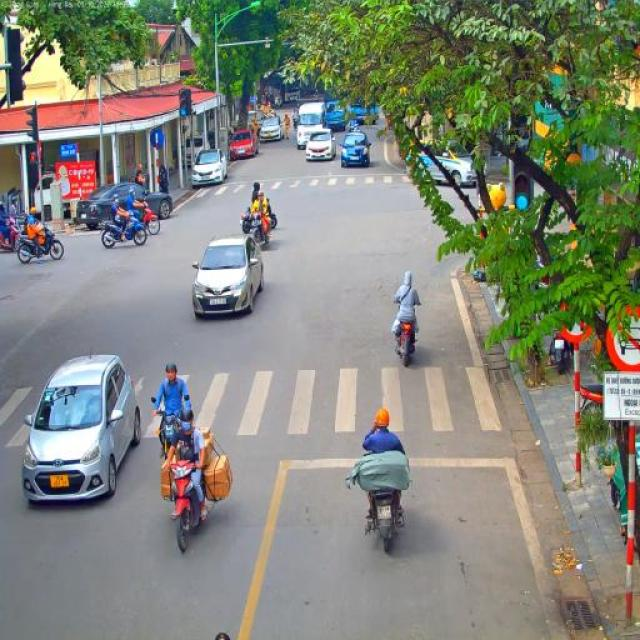bus: (533, 64, 616, 214)
car: (20, 352, 142, 506), (192, 234, 266, 320), (76, 182, 173, 229), (414, 140, 480, 190), (192, 148, 228, 186), (339, 131, 372, 168), (305, 128, 336, 162), (228, 130, 258, 161), (324, 100, 347, 132), (258, 116, 284, 144), (248, 110, 263, 130)
motorcycle: (169, 456, 205, 553), (150, 396, 195, 463), (364, 487, 406, 554), (100, 210, 148, 249), (16, 226, 64, 264), (545, 326, 573, 375), (240, 198, 278, 234), (394, 318, 420, 367), (578, 382, 604, 431), (130, 200, 161, 236), (246, 212, 272, 248), (0, 218, 21, 252), (348, 123, 364, 133), (292, 112, 298, 130), (261, 99, 269, 112), (274, 99, 281, 109)
truck: (296, 102, 328, 149), (344, 93, 380, 125), (284, 76, 302, 104)
